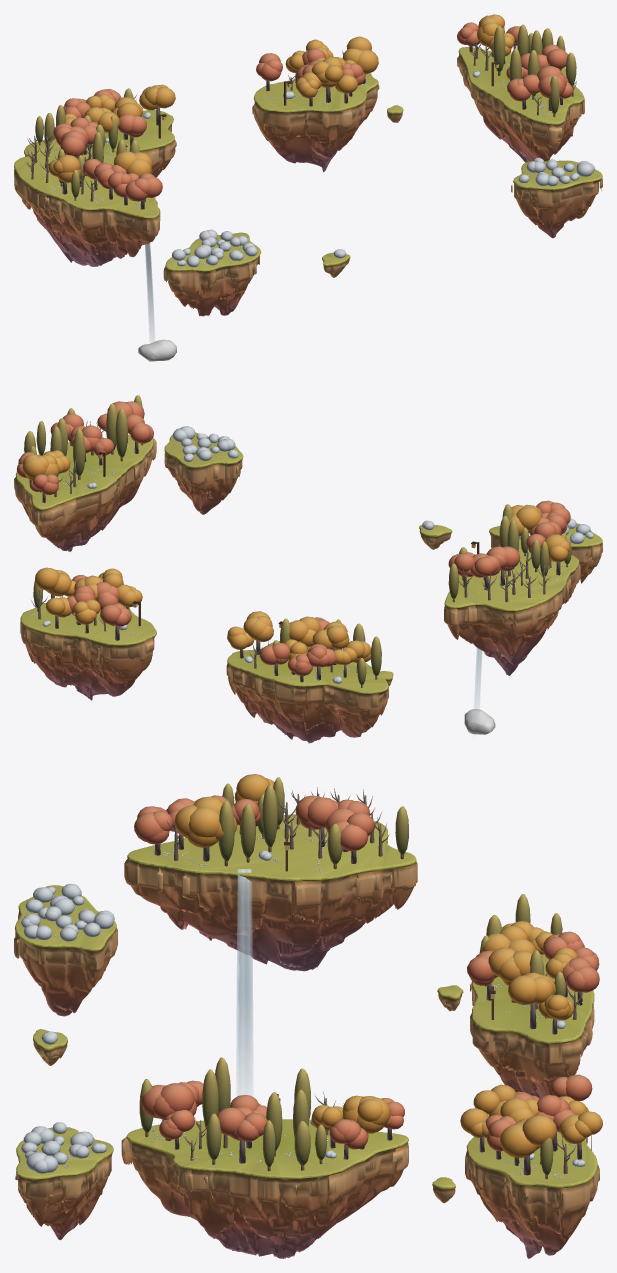
The model's file is skybridge.glb.
The picture shows the model from 3 angles, top to bottom: view 1: azimuth 30°, elevation 25°; view 2: azimuth 150°, elevation 25°; view 3: azimuth 270°, elevation 25°; orthographic projection. The views are drawn at different scales.
Visible parts, largest first — view 1: decor_leaves, decor_m06, decor_m01, decor_m07, decor_m03, decor_m04, decor_m00, decor_trunks, clouds, waterfall; view 2: decor_leaves, decor_m00, decor_m06, decor_m01, decor_m07, decor_m04, decor_trunks, decor_m03, clouds, decor_s00; view 3: decor_leaves, decor_m06, decor_m07, decor_m01, decor_m00, decor_m03, decor_m04, decor_trunks, waterfall, decor_s00.
Part boxes in pixels (x1,y1,x2,y2): decor_leaves: (35,14,594,267); decor_m06: (14,139,160,266); decor_m01: (252,73,379,172); decor_m07: (457,47,584,162); decor_m03: (163,232,261,316); decor_m04: (511,160,602,238); decor_m00: (24,110,176,177); decor_trunks: (25,37,576,209); clouds: (138,339,176,361); waterfall: (145,243,154,342); decor_leaves: (16,395,593,685); decor_m00: (226,641,388,743); decor_m06: (444,532,580,675); decor_m01: (20,603,156,700); decor_m07: (14,434,156,551); decor_m04: (164,432,243,514); decor_trunks: (29,421,568,687); decor_m03: (489,523,602,583); clouds: (464,709,495,734); decor_s00: (419,525,452,549); decor_leaves: (21,774,602,1174); decor_m06: (124,814,417,971); decor_m07: (121,1119,408,1258); decor_m01: (465,1131,599,1258); decor_m00: (470,954,594,1098); decor_m03: (14,885,117,1016); decor_m04: (15,1127,113,1240); decor_trunks: (145,787,583,1179); waterfall: (236,869,253,1095); decor_s00: (33,1029,67,1065).
Size of the model in its own units: 35.38 by 15.14 by 24.61.
